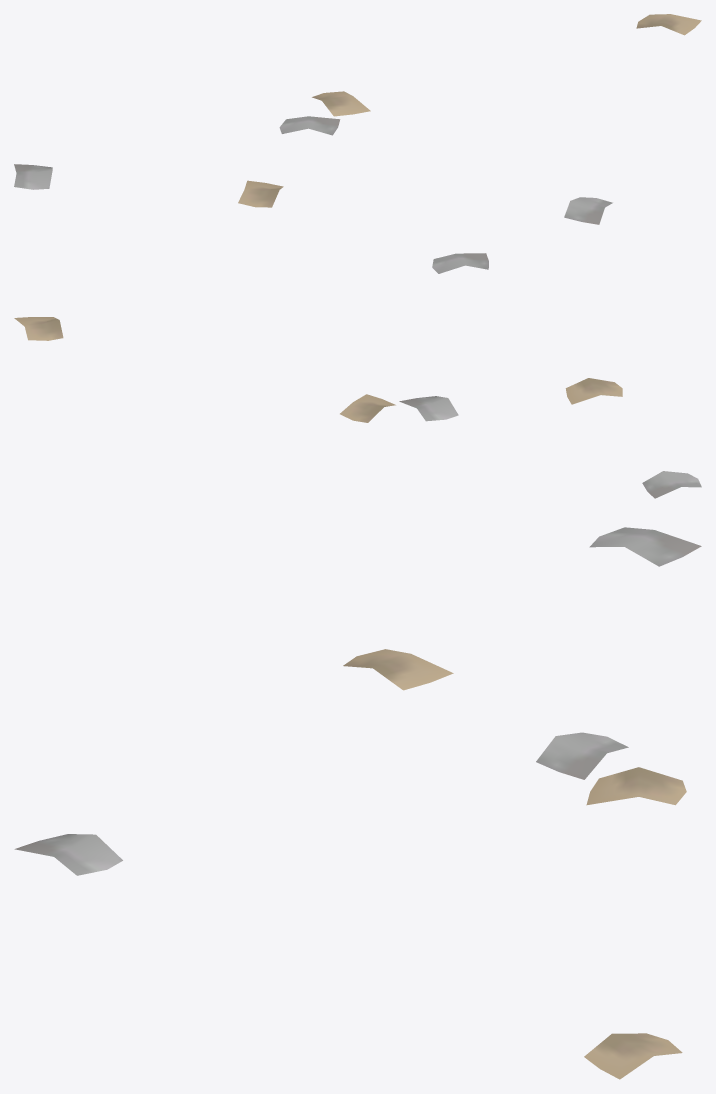
File: SM_Trash_Paper04.glb
3 views of the same model, one above another, from view 1: azimuth 30°, elevation 25°; view 2: azimuth 150°, elevation 25°; view 3: azimuth 270°, elevation 25° (orthographic). The views are drawn at different scales.
Parts seen in each view (by area): view 1: SM_Trash_Paper04; view 2: SM_Trash_Paper04; view 3: SM_Trash_Paper04.
Part boxes in pixels (x1,y1,x2,y2): SM_Trash_Paper04: (14, 14, 701, 224); SM_Trash_Paper04: (14, 253, 701, 498); SM_Trash_Paper04: (14, 527, 701, 1079).
Size of the model in its own units: 0.7541 by 0.00721 by 0.3969.
1 material, 1 textured.
